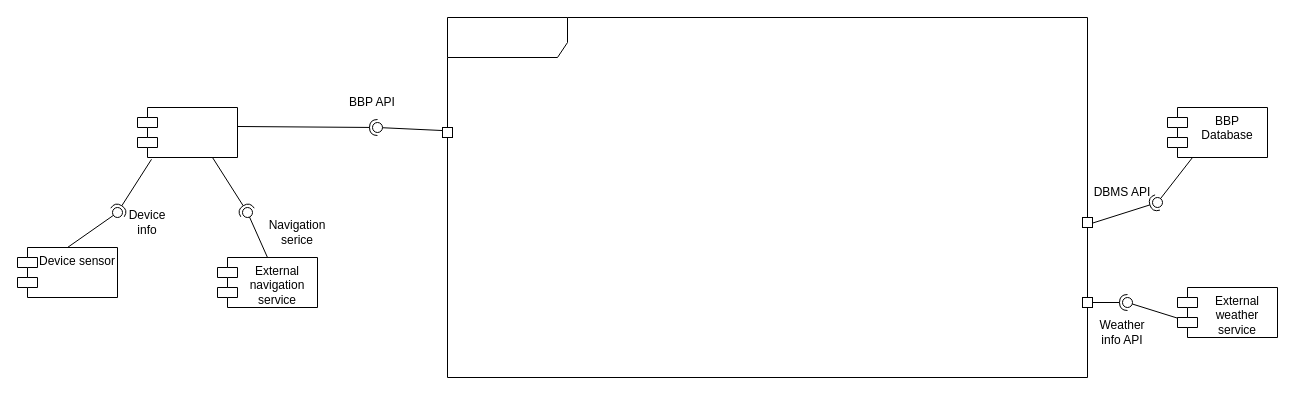
This 1295x395 diagram has some shape labels left out. The centre of each missing label's shape, as x and y in pixels:
BBP backend server: point 767,197
Mobile App: point 187,132
